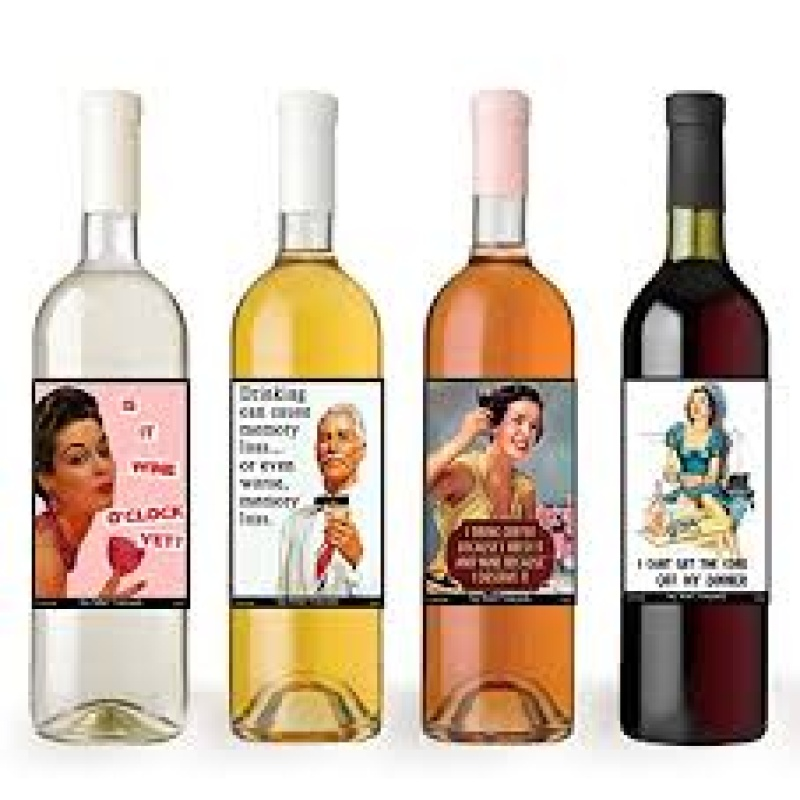wine: (34, 92, 194, 743), (619, 87, 772, 747), (230, 94, 383, 741), (431, 88, 577, 743)
